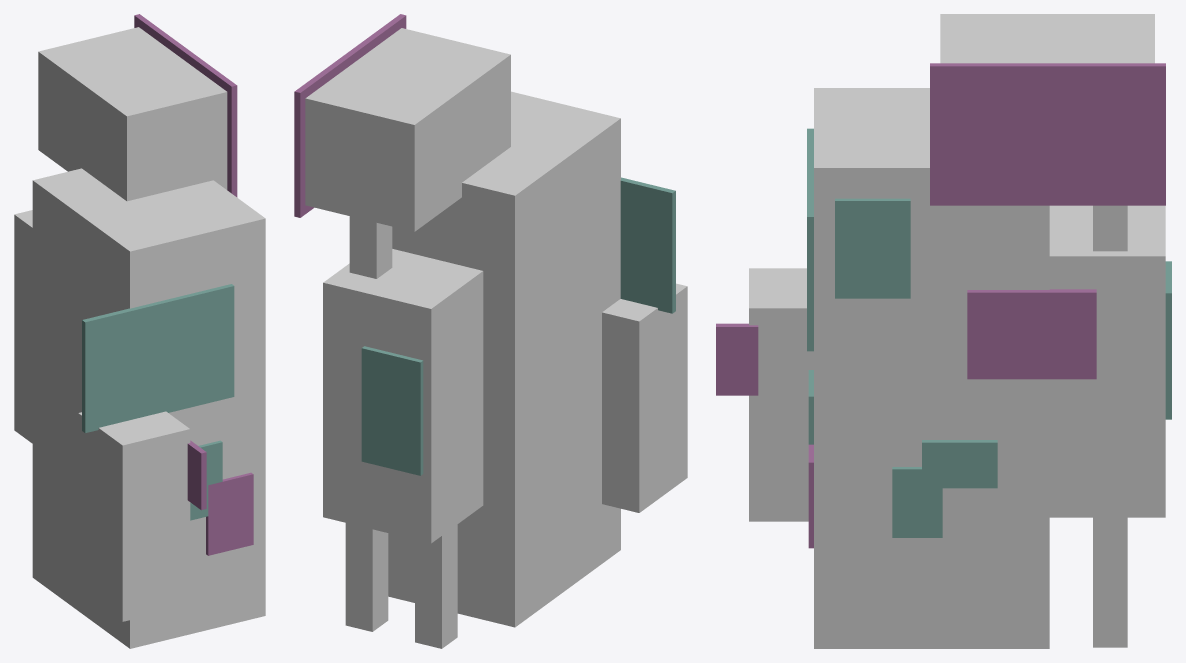
File: building1.fbx
The picture shows the model from 3 angles, left to right: view 1: azimuth 30°, elevation 25°; view 2: azimuth 150°, elevation 25°; view 3: azimuth 270°, elevation 25°; orthographic projection. The views are drawn at different scales.
Visible parts, largest first — view 1: building1_1; view 2: building1_1; view 3: building1_1.
Boxes of the visible parts, bbox=[...] form: building1_1: bbox=[14, 14, 265, 648]; building1_1: bbox=[294, 14, 687, 648]; building1_1: bbox=[716, 14, 1171, 648].
Size of the model in its own units: 5.23 by 12.22 by 8.42.
